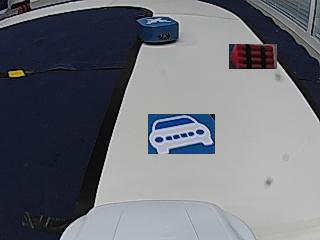prop: (137, 17, 180, 45)
